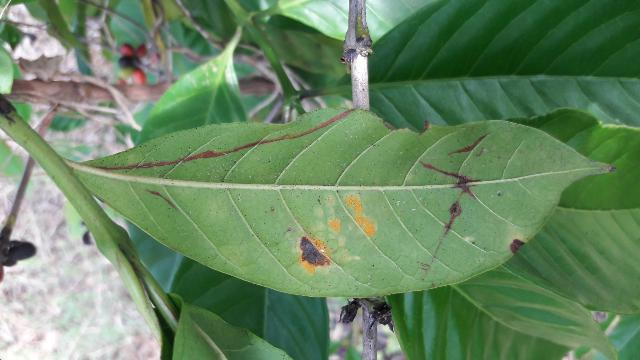red_spider_mite: (78, 111, 611, 297)
